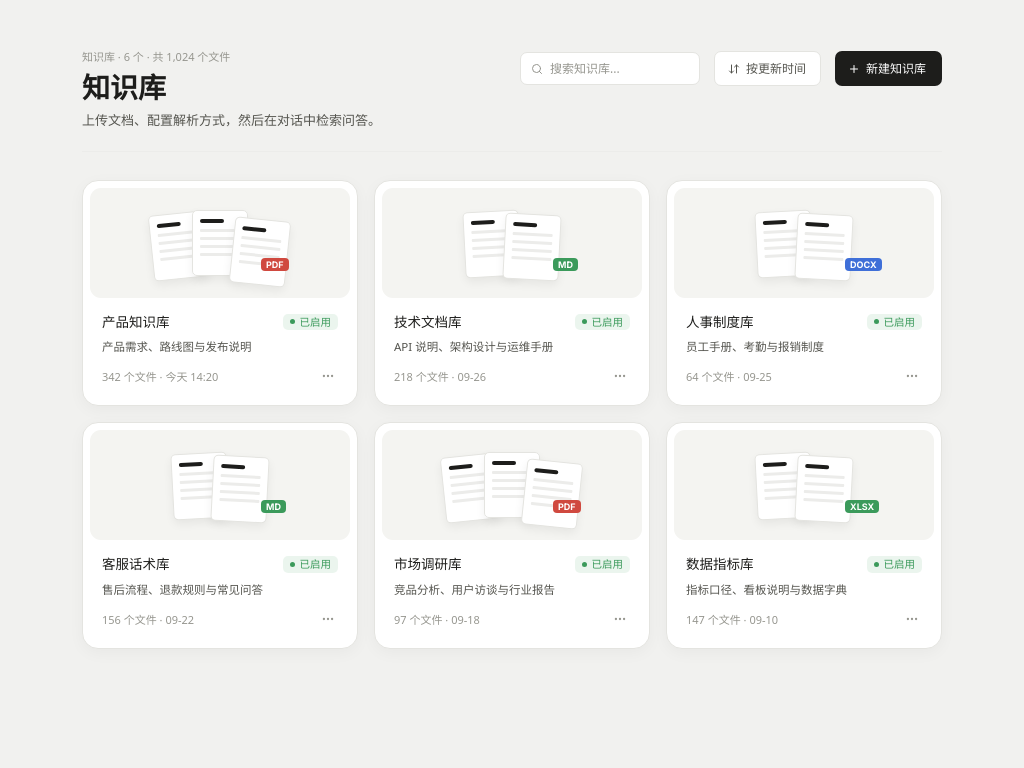
DatasetListPage › disables a dataset through the menu and confirm dialog (C10→C12→C13)
Click the button named "产品知识库 更多操作". click: [328, 376]
box: [318,366,338,386]
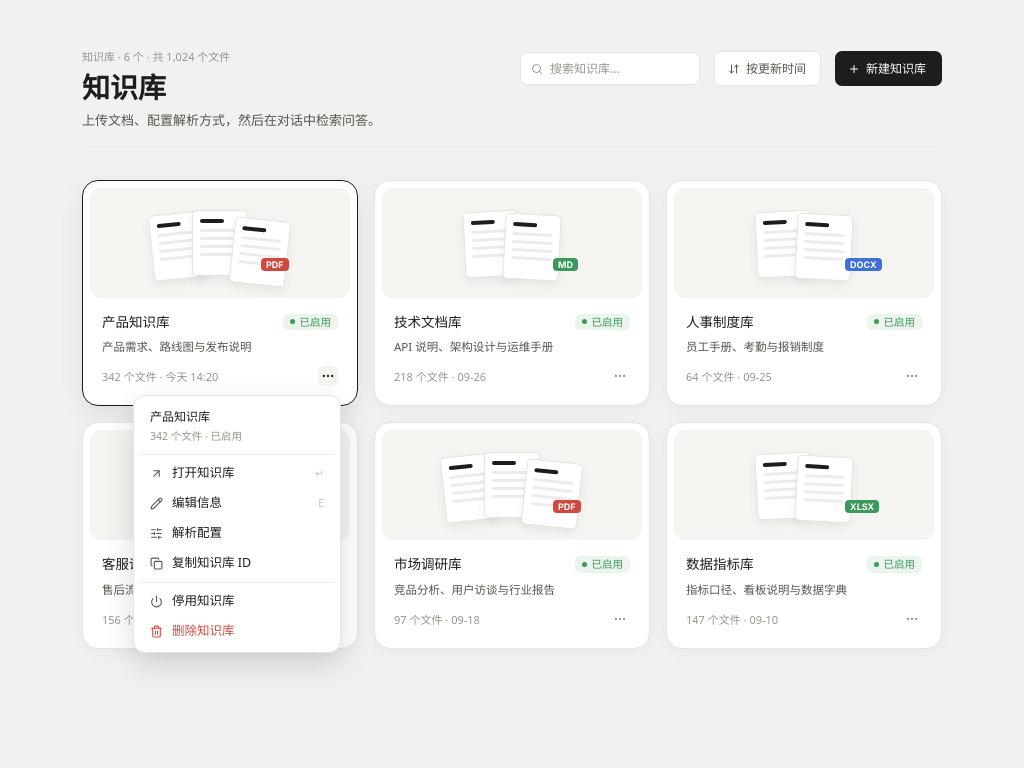
Click the menu item "停用知识库". click: [237, 602]
box: [140,587,334,616]
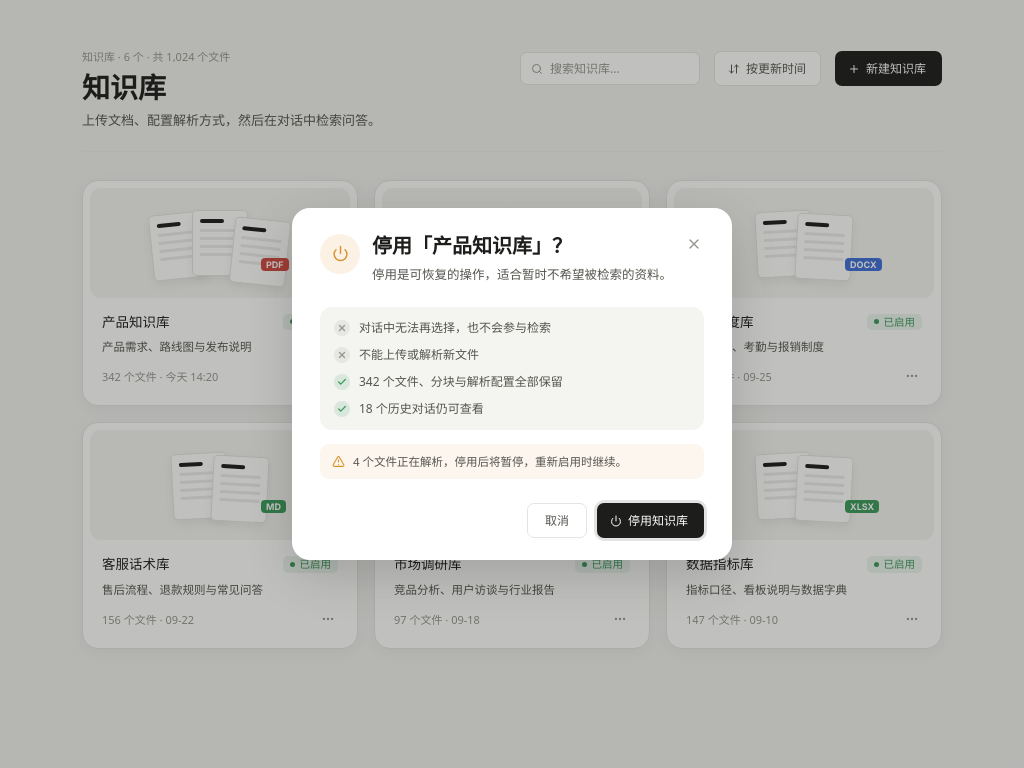
Result: the heading "停用「产品知识库」？" is shown at [372,235,572,257]
Click the button "停用知识库". click: [650, 521]
box: [597,503,704,538]
Wait 300 ms
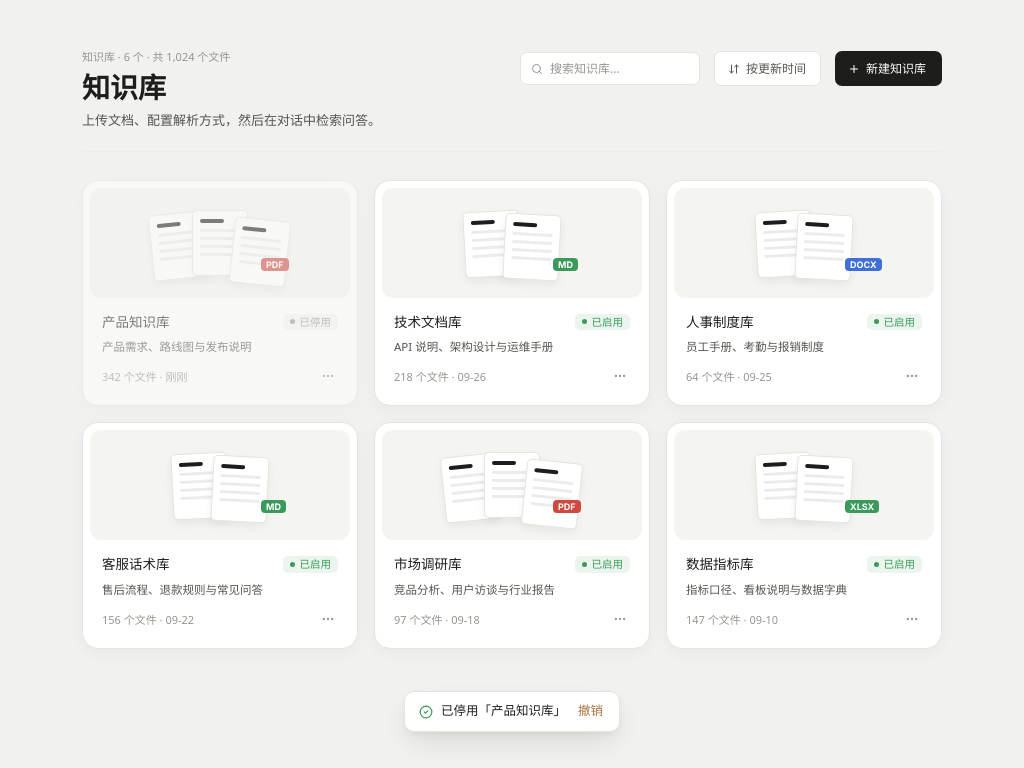
Result: the text "已停用" is shown at [282,314,338,330]
Result: the button "撤销" is shown at [578,702,603,721]
